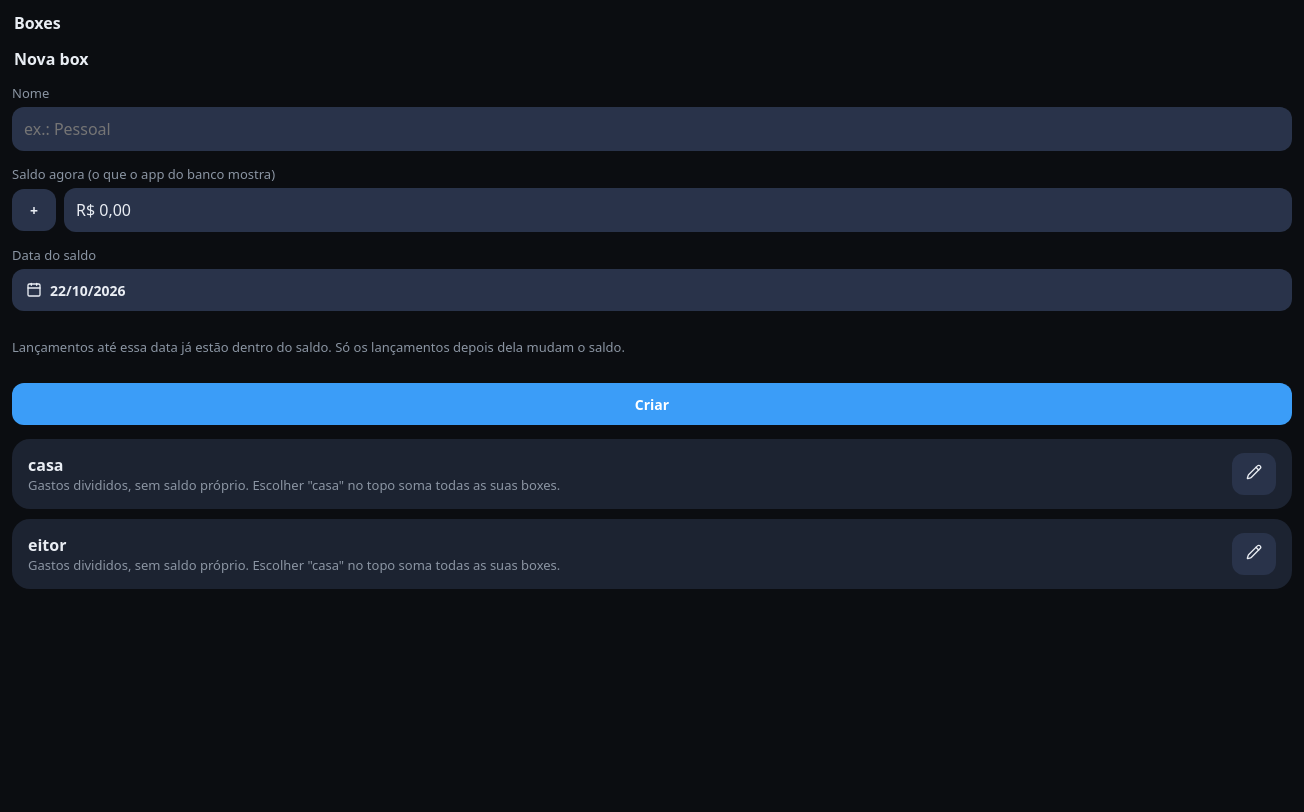
Test: toca no lápis para editar: abre os campos dentro do item e some "Nova box"
This screenshot has width=1304, height=812.
Expected: the heading "Nova box" is shown, [14,48,88,70]
Click the button named "Editar" in the row of "eitor" at (1254, 554), box [1232,533,1276,575]
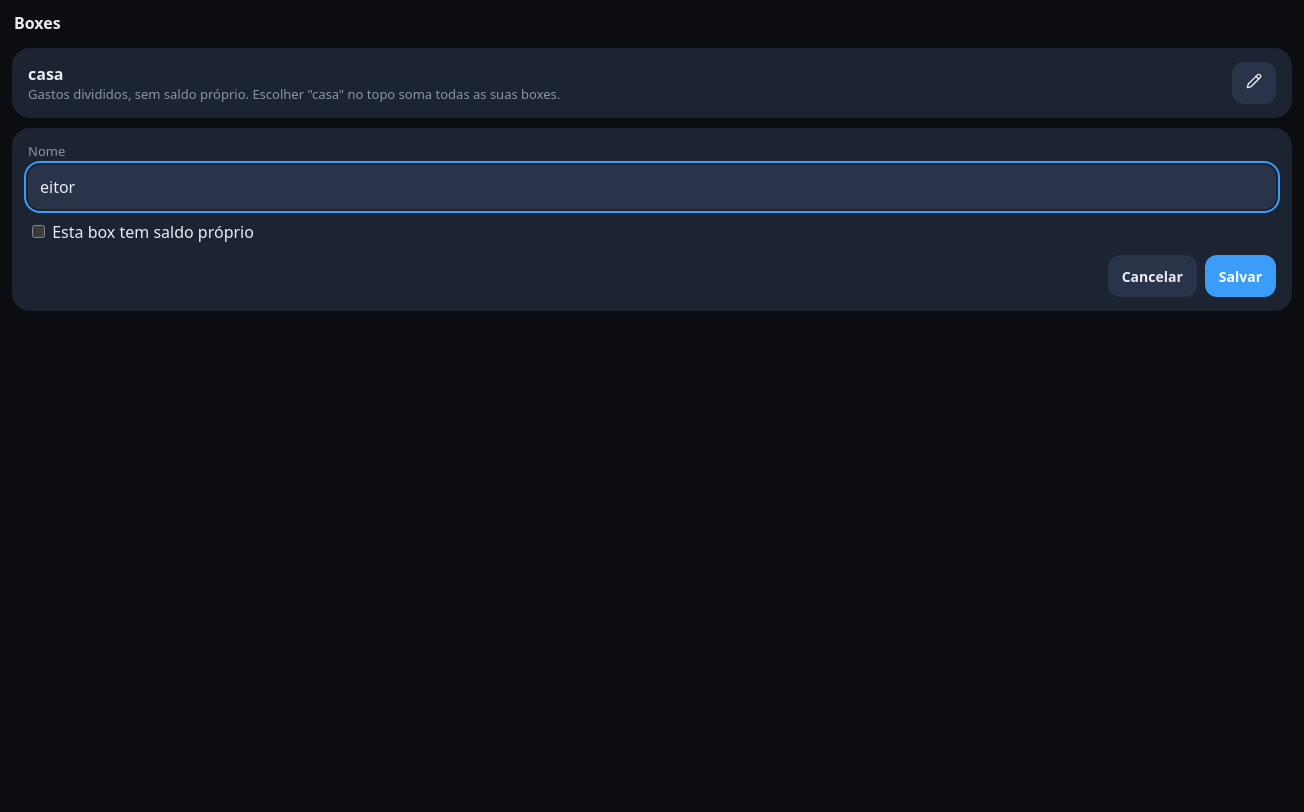
Expected: the heading "Nova box" is gone
Expected: the field labelled "Nome" holds "eitor", [28,165,1276,209]
